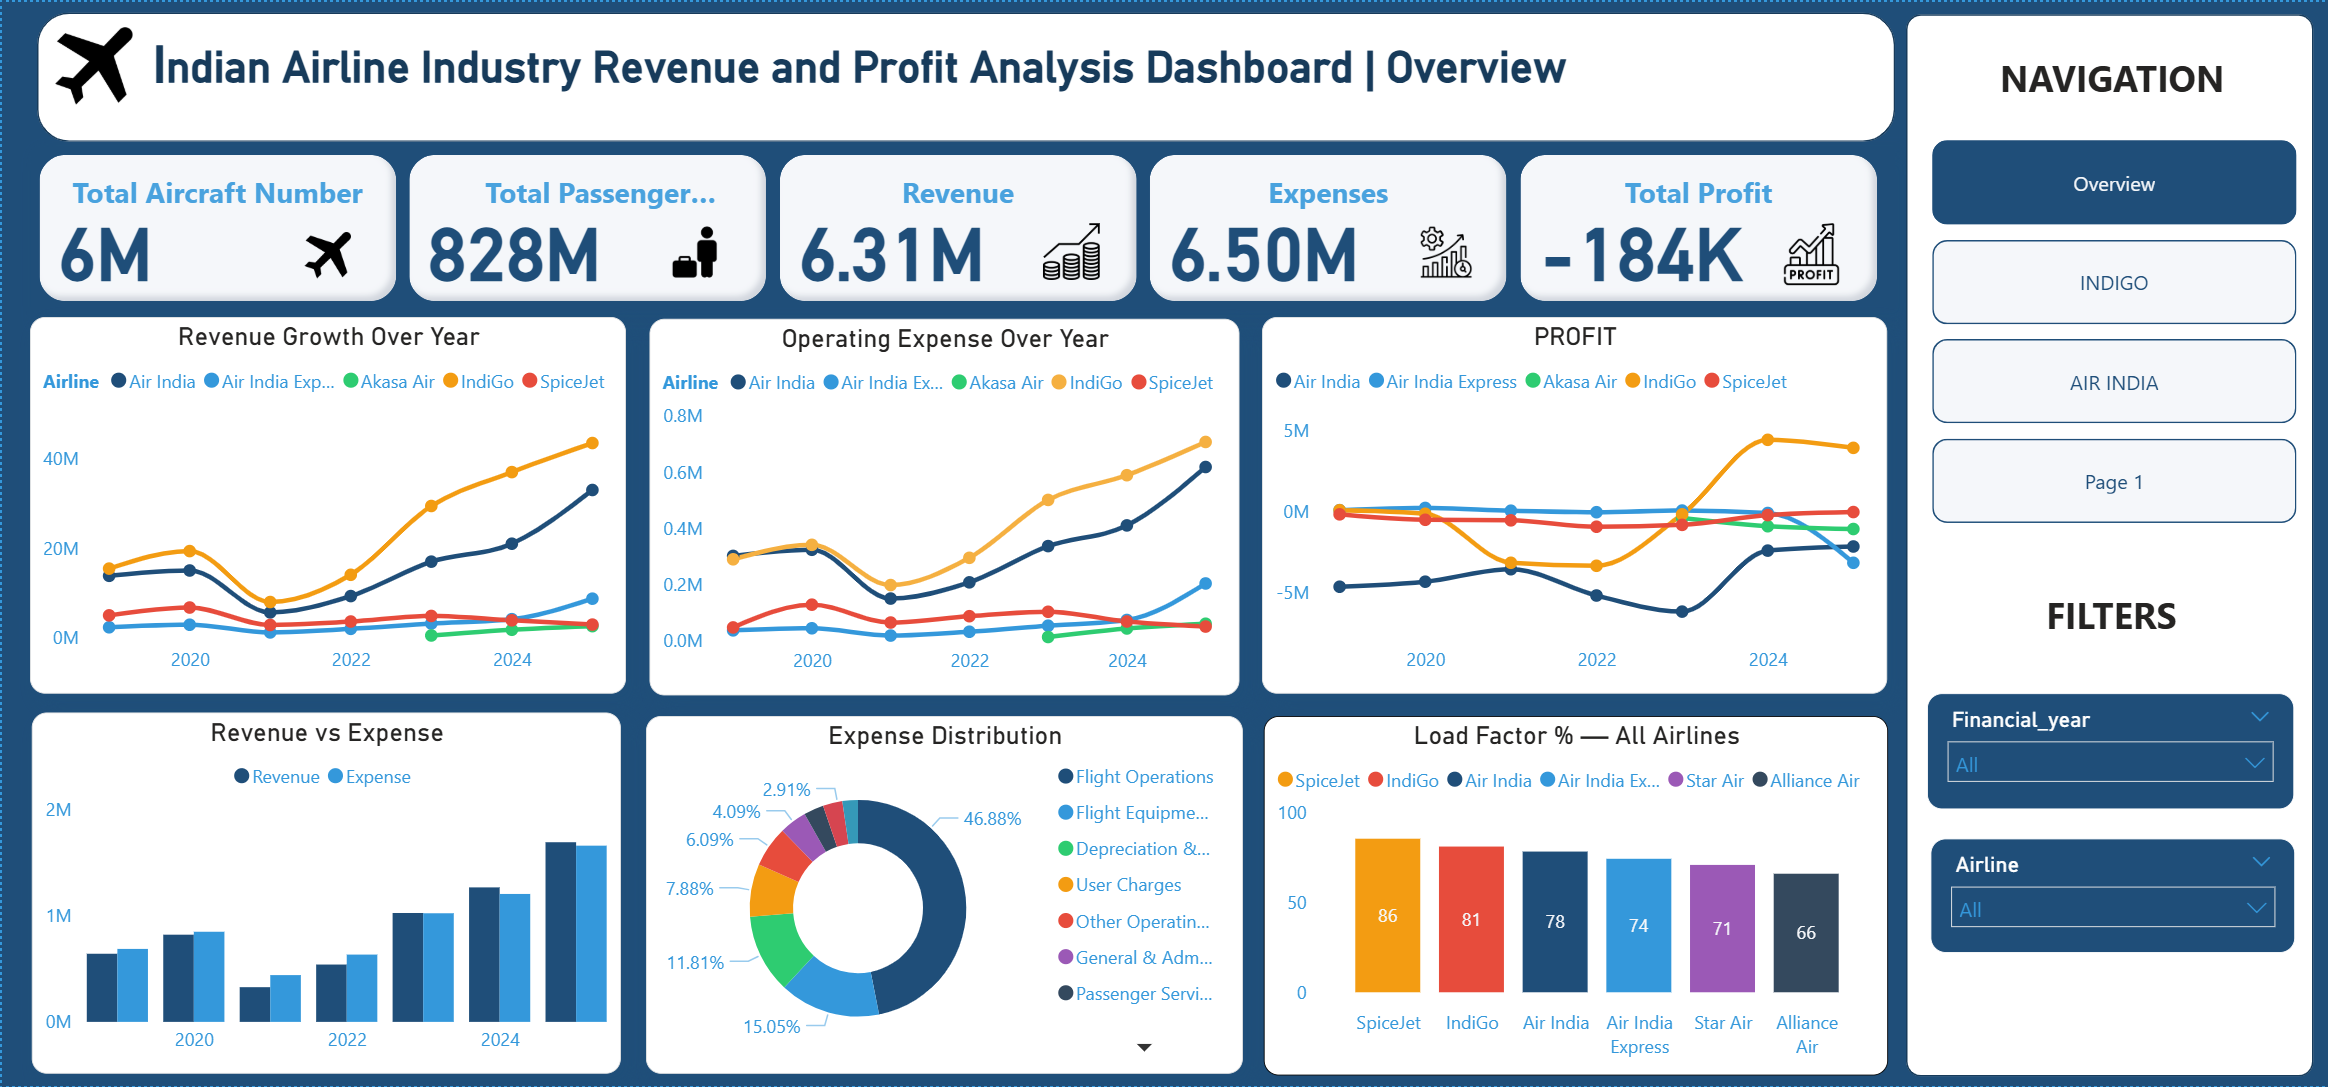

This screenshot's page, from the dashboard's own definition file:
{"tool":"powerbi","page":{"name":"Overview","canvas":[1550,720],"ordinal":0},"visuals":[{"type":"cardVisual","fields":{"Data":["Sum(Yearly_traffic&finance.Total_Aircraft_Number)","Sum(Yearly_traffic&finance.Total_Passenger_Number)","Sum(Yearly_traffic&finance.TOTAL_OPERATING_REVENUEM)","Sum(Yearly_traffic&finance.TOTAL_OPERATING_EXPENSESM)","AIR INDIA AND INDIGO.Total Profit"]},"box":[19.3,96.3,1238.5,107.8],"z":0},{"type":"lineChart","title":"Revenue Growth Over Year","fields":{"Category":["finance.Financial_year"],"Y":["Sum(finance.Total Operating Revenue)"],"Series":["finance.Airline"]},"box":[18,209.6,396.1,250.2],"z":1000},{"type":"lineChart","title":"Operating Expense Over Year","fields":{"Category":["Yearly_traffic&finance.Financial_year"],"Y":["Sum(Yearly_traffic&finance.TOTAL_OPERATING_EXPENSESM)"],"Series":["Yearly_traffic&finance.Airline"]},"box":[429.8,210.1,391.9,250],"z":2000},{"type":"lineChart","title":"PROFIT","fields":{"Category":["finance.Financial_year"],"Y":["Sum(finance.Profit or loss after tax and after extra ordinary items)"],"Series":["finance.Airline"]},"box":[837.4,209.6,415.4,250.2],"z":3000},{"type":"clusteredColumnChart","title":"Revenue vs Expense","fields":{"Category":["Yearly_traffic&finance.Financial_year"],"Y":["Sum(Yearly_traffic&finance.TOTAL_OPERATING_REVENUEM)","Sum(Yearly_traffic&finance.TOTAL_OPERATING_EXPENSESM)"]},"box":[19.3,472.3,391.4,240],"z":4000},{"type":"donutChart","title":"Expense Distribution","fields":{"Category":["finance.OPERATING FACTORS"],"Y":["Sum(finance.OPERATING FACTORS VALUES)"]},"box":[427.4,474.9,396.6,237.4],"z":5000},{"type":"image","box":[192.7,147.8,46.4,40.9],"z":6000},{"type":"image","box":[428.8,141,62.8,50.5],"z":7000},{"type":"image","box":[680.9,141.3,57.9,47.7],"z":8000},{"type":"image","box":[924.3,143,69.8,46],"z":9000},{"type":"shape","box":[23.1,6.4,1234.7,86],"z":10000},{"type":"textbox","box":[95,16.7,1087.1,56.5],"z":11000},{"type":"columnChart","title":"Load Factor % — All Airlines","fields":{"Y":["Avg(Yearly_traffic&finance.Load_Factor_percent)"],"Category":["Yearly_traffic&finance.Airline"],"Series":["Yearly_traffic&finance.Airline"]},"box":[837.8,474.5,415,239],"z":12000},{"type":"image","box":[1438.1,133.7,51.9,55.9],"z":14000},{"type":"image","box":[27,11.6,68,61.6],"z":16000},{"type":"shape","box":[1265.5,7.7,270.8,705.9],"z":17000},{"type":"textbox","box":[1298.8,29.5,206.6,43.6],"z":18000},{"type":"pageNavigator","box":[1282.1,92.4,242.6,256.7],"z":19000},{"type":"textbox","box":[1297.5,386.3,207.9,43.6],"z":20000},{"type":"slicer","fields":{"Values":["year_table.Financial_year"]},"box":[1279.6,459.5,243.9,77],"z":21000},{"type":"slicer","fields":{"Values":["finance.Airline"]},"box":[1280.9,555.7,242.6,75.7],"z":22000},{"type":"image","box":[1171.1,141.3,63,51.1],"z":23000}]}

Visuals, with their boxes in screenshot pixels (x1, y1, x2, y2), scaled from the page's 1550x720 canvas onto the 2328x1087 screenshot:
cardVisual - Sum(Yearly_traffic&finance.Total_Aircraft_Number) x Sum(Yearly_traffic&finance.Total_Passenger_Number): <box>29,145,1889,308</box>
"Revenue Growth Over Year" lineChart: <box>27,316,622,694</box>
"Operating Expense Over Year" lineChart: <box>646,317,1234,695</box>
"PROFIT" lineChart: <box>1258,316,1882,694</box>
"Revenue vs Expense" clusteredColumnChart: <box>29,713,617,1075</box>
"Expense Distribution" donutChart: <box>642,717,1238,1075</box>
image: <box>289,223,359,285</box>
image: <box>644,213,738,289</box>
image: <box>1023,213,1110,285</box>
image: <box>1388,216,1493,285</box>
shape: <box>35,10,1889,139</box>
textbox: <box>143,25,1775,111</box>
"Load Factor % — All Airlines" columnChart: <box>1258,716,1882,1077</box>
image: <box>2160,202,2238,286</box>
image: <box>41,18,143,111</box>
shape: <box>1901,12,2307,1077</box>
textbox: <box>1951,45,2261,110</box>
pageNavigator: <box>1926,139,2290,527</box>
textbox: <box>1949,583,2261,649</box>
slicer - year_table.Financial_year: <box>1922,694,2288,810</box>
slicer - finance.Airline: <box>1924,839,2288,953</box>
image: <box>1759,213,1854,290</box>
